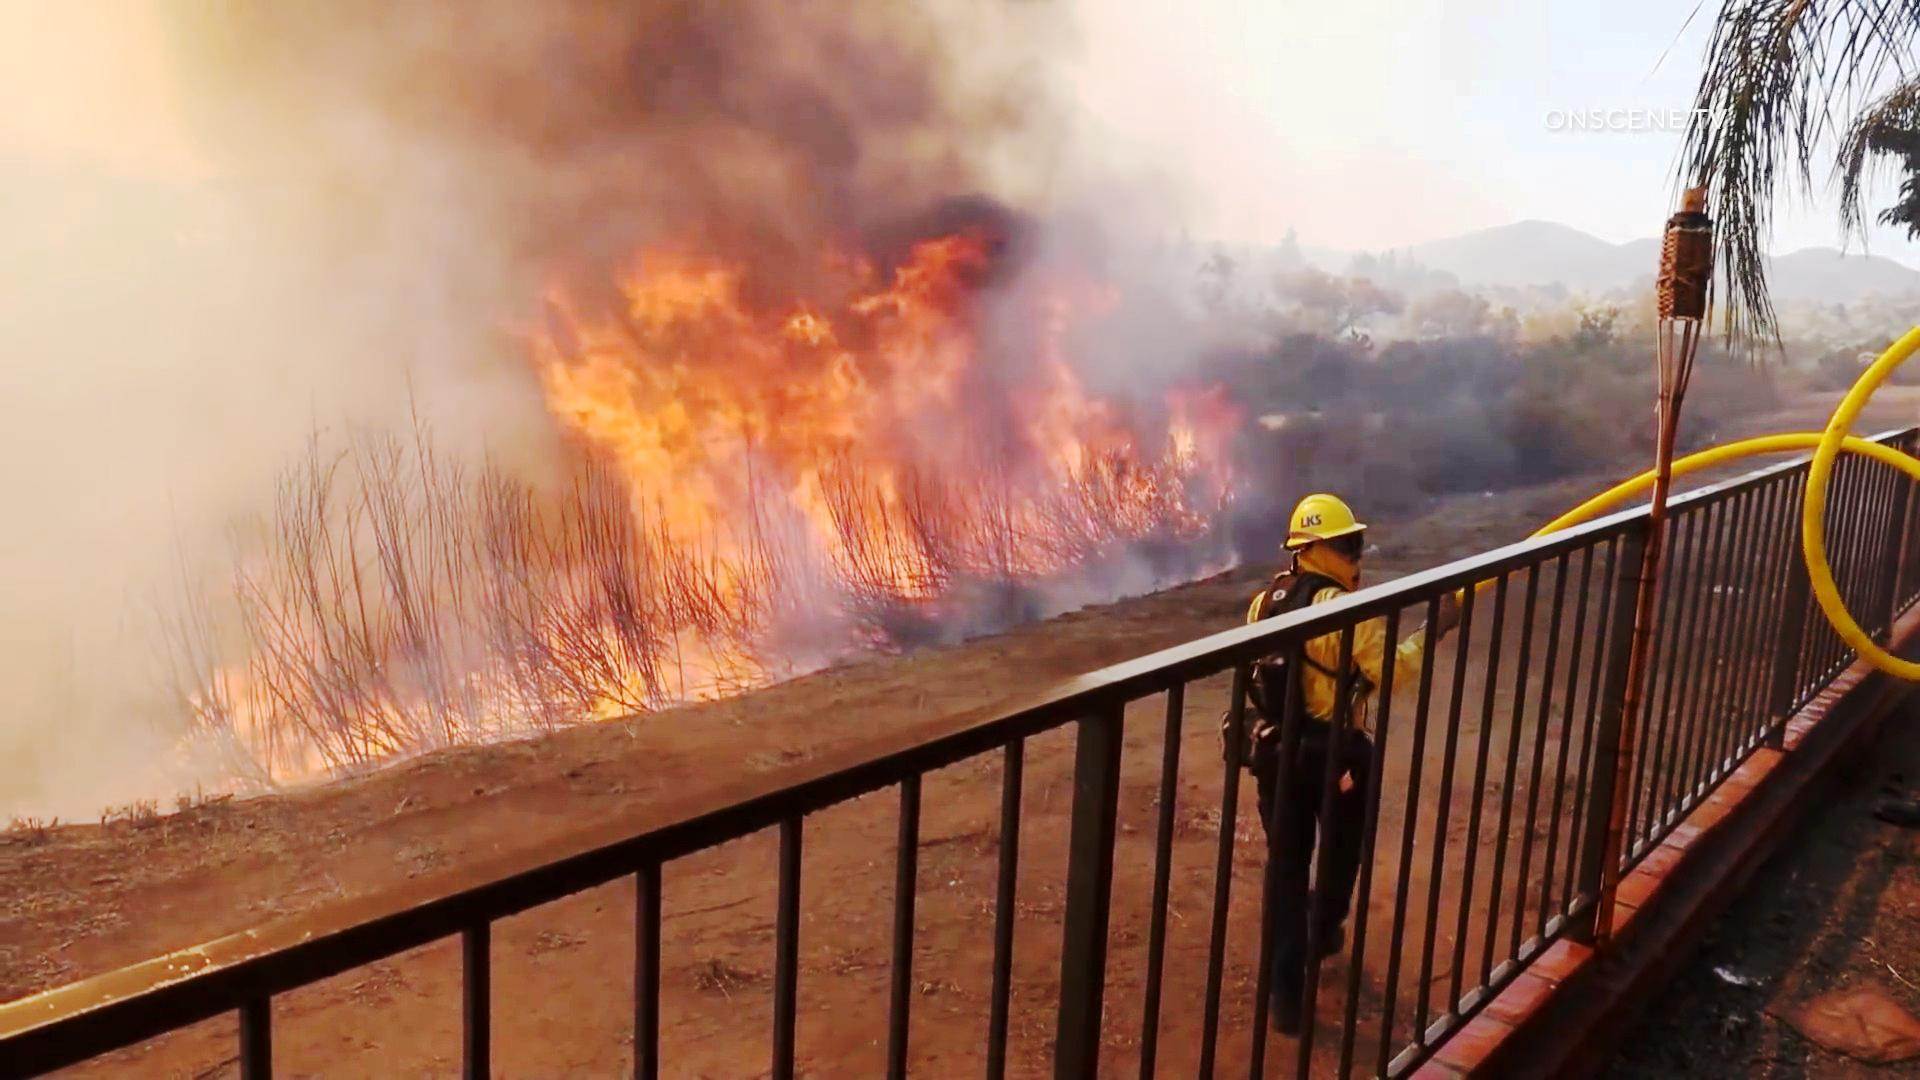fire: (566, 218, 822, 604), (845, 410, 1058, 611)
smoke: (16, 13, 533, 554), (0, 3, 1058, 212), (831, 3, 1071, 216), (840, 237, 1075, 413), (21, 558, 219, 744)
